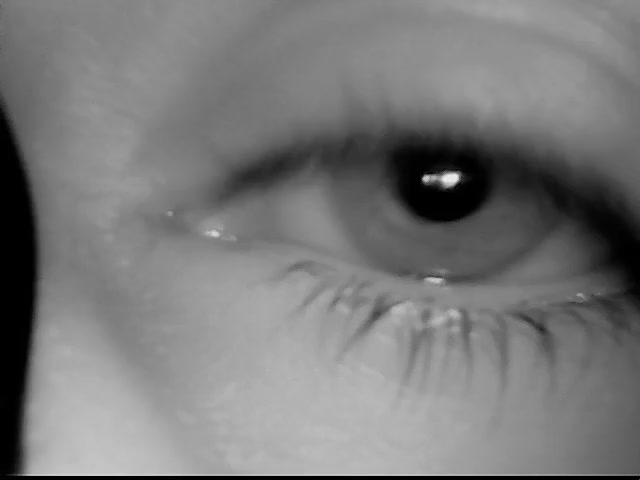PUPIL: (378, 142, 504, 236)
